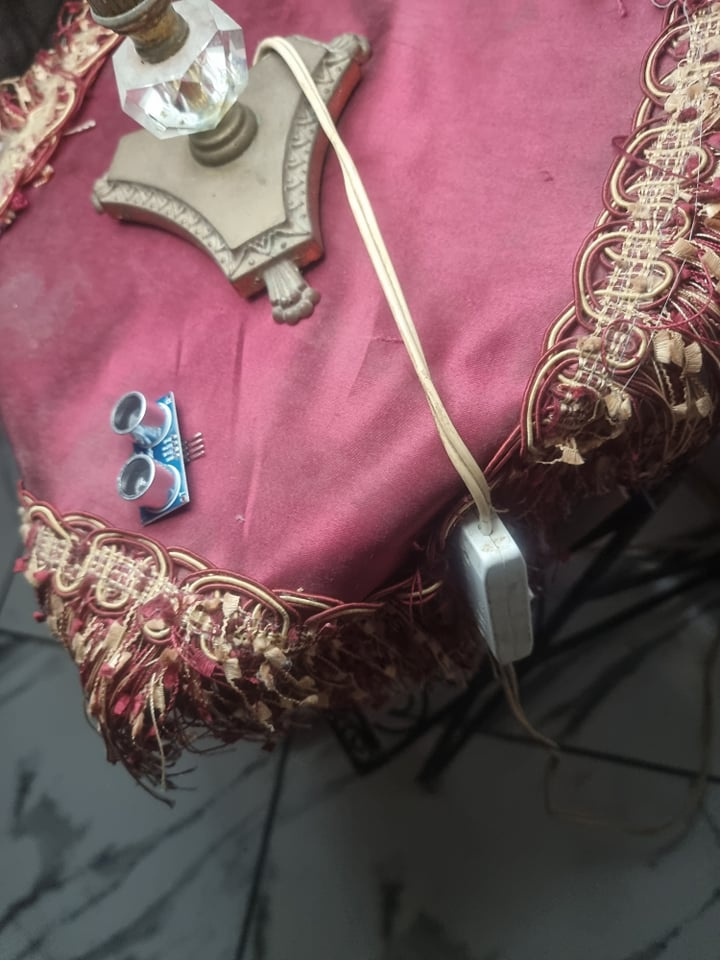SENSOR: (112, 388, 189, 532)
